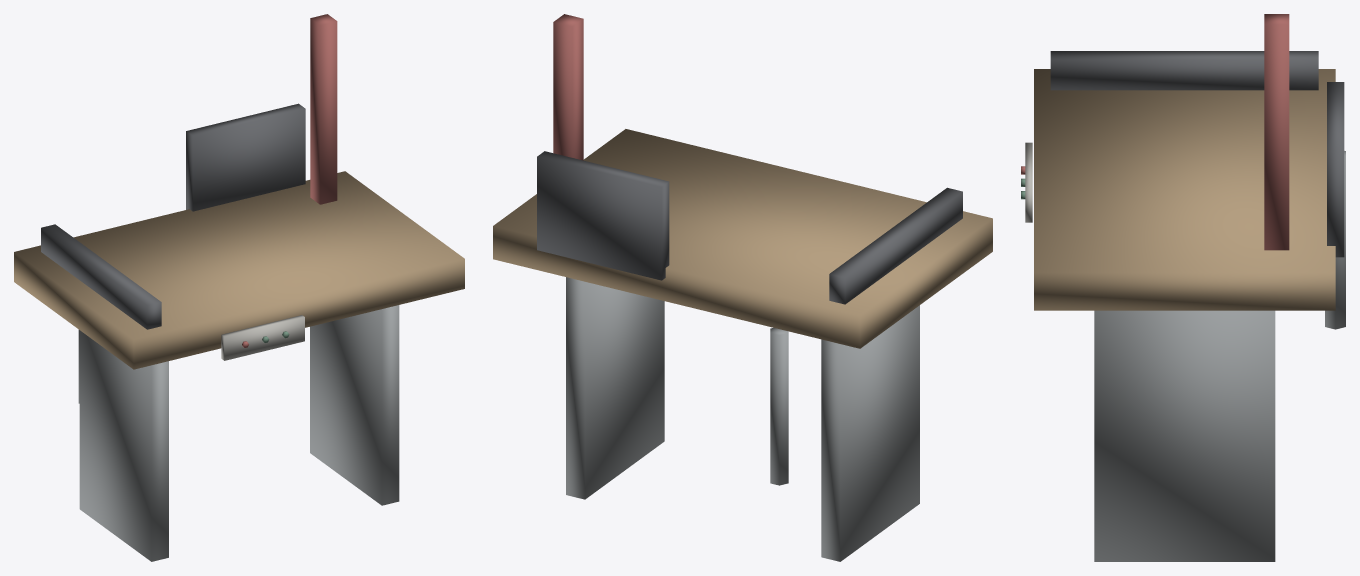
The model's file is paper_cutter__service.glb.
The picture shows the model from 3 angles, left to right: view 1: azimuth 30°, elevation 25°; view 2: azimuth 150°, elevation 25°; view 3: azimuth 270°, elevation 25°; orthographic projection. The views are drawn at different scales.
Visible parts, largest first — view 1: world; view 2: world; view 3: world.
Boxes of the visible parts, x1=… form: world: x1=14, y1=14, x2=464, y2=561; world: x1=493, y1=14, x2=992, y2=561; world: x1=1021, y1=14, x2=1345, y2=561.
Size of the model in its own units: 1.15 by 1.42 by 0.7759.
